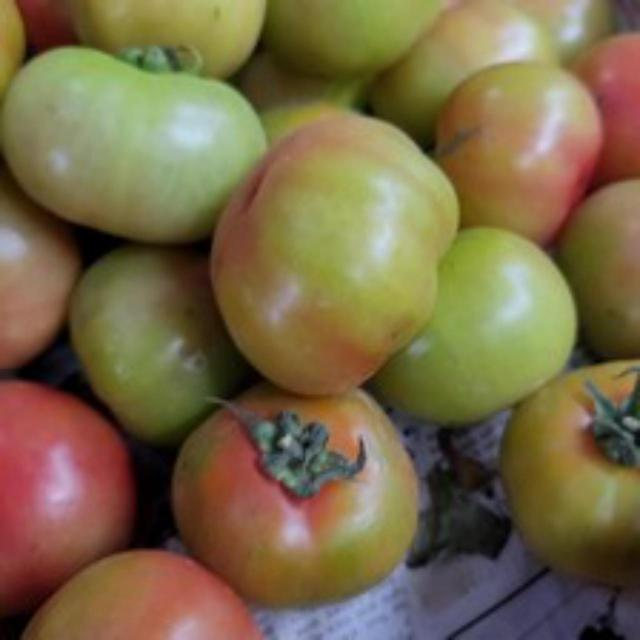tomato: (0, 370, 148, 611)
